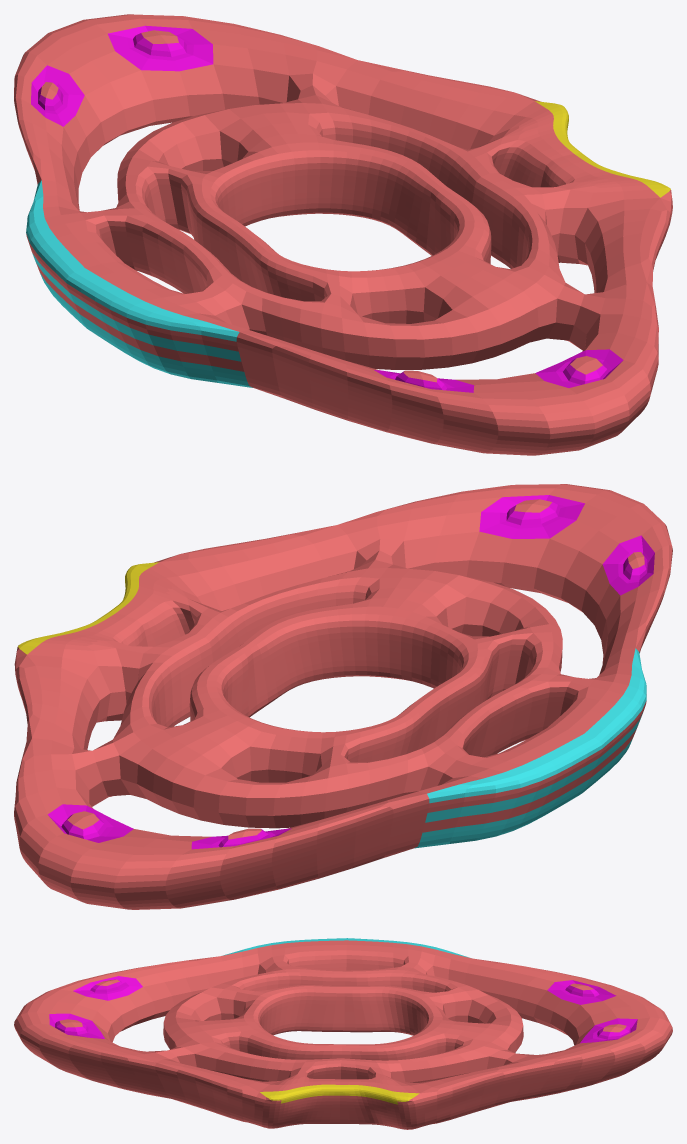
Rendered from PlayerModel.fbx.
3 views of the same model, one above another, from view 1: azimuth 30°, elevation 25°; view 2: azimuth 150°, elevation 25°; view 3: azimuth 270°, elevation 25° (orthographic). The views are drawn at different scales.
Parts seen in each view (by area): view 1: Circle.001; view 2: Circle.001; view 3: Circle.001.
Boxes of the visible parts, <box> form: Circle.001: <box>14,14,672,455</box>; Circle.001: <box>14,484,672,909</box>; Circle.001: <box>14,938,672,1129</box>.
Size of the model in its own units: 600 by 43.23 by 353.
